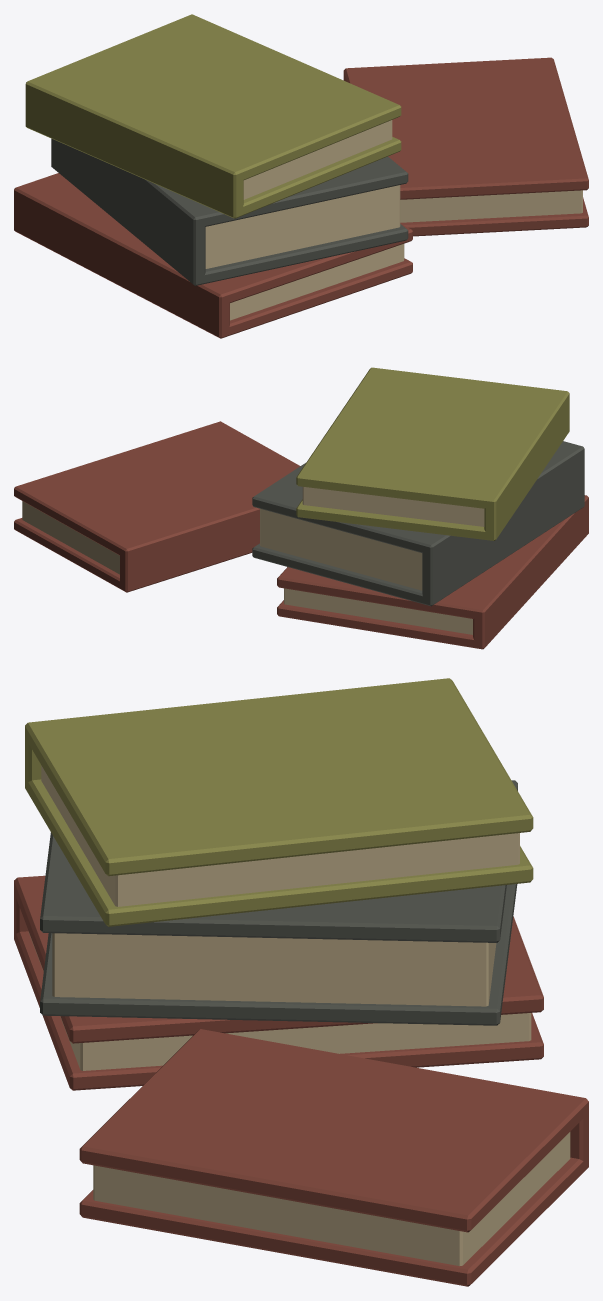
File: Library_BookStack_B.fbx
The picture shows the model from 3 angles, top to bottom: view 1: azimuth 30°, elevation 25°; view 2: azimuth 150°, elevation 25°; view 3: azimuth 270°, elevation 25°; orthographic projection. The views are drawn at different scales.
Visible parts, largest first — view 1: Upper_cover.014, Upper_cover.015, Spine.014, Spine.012, Spine.013, Pages.013, Upper_cover.012, Pages.015, Upper_cover.013, Lower_cover.013, Pages.012, Pages.014 (+3 smaller); view 2: Upper_cover.014, Upper_cover.015, Spine.013, Spine.015, Pages.013, Spine.012, Spine.014, Upper_cover.012, Upper_cover.013, Pages.014, Pages.012, Lower_cover.012 (+4 smaller); view 3: Upper_cover.014, Upper_cover.015, Pages.013, Upper_cover.013, Pages.015, Pages.014, Lower_cover.014, Lower_cover.013, Lower_cover.015, Pages.012, Upper_cover.012, Lower_cover.012 (+2 smaller).
Boxes of the visible parts, x1=… form: Upper_cover.014: x1=35, y1=14, x2=401, y2=181; Upper_cover.015: x1=347, y1=57, x2=588, y2=199; Spine.014: x1=25, y1=78, x2=243, y2=218; Spine.012: x1=14, y1=185, x2=229, y2=338; Spine.013: x1=51, y1=138, x2=205, y2=285; Pages.013: x1=205, y1=185, x2=400, y2=268; Upper_cover.012: x1=24, y1=173, x2=412, y2=304; Pages.015: x1=400, y1=190, x2=582, y2=222; Upper_cover.013: x1=157, y1=156, x2=408, y2=226; Lower_cover.013: x1=196, y1=224, x2=408, y2=285; Pages.012: x1=230, y1=244, x2=404, y2=320; Pages.014: x1=243, y1=120, x2=392, y2=199; Upper_cover.014: x1=296, y1=367, x2=559, y2=508; Upper_cover.015: x1=14, y1=421, x2=300, y2=557; Spine.013: x1=422, y1=446, x2=584, y2=606; Spine.015: x1=120, y1=504, x2=259, y2=592; Pages.013: x1=260, y1=508, x2=422, y2=590; Spine.012: x1=473, y1=495, x2=588, y2=649; Spine.014: x1=484, y1=390, x2=569, y2=540; Upper_cover.012: x1=277, y1=534, x2=545, y2=618; Upper_cover.013: x1=252, y1=441, x2=581, y2=554; Pages.014: x1=302, y1=487, x2=484, y2=526; Pages.012: x1=284, y1=588, x2=472, y2=634; Lower_cover.012: x1=277, y1=600, x2=481, y2=649; Upper_cover.014: x1=25, y1=681, x2=533, y2=876; Upper_cover.015: x1=79, y1=1031, x2=588, y2=1232; Pages.013: x1=52, y1=933, x2=496, y2=1006; Upper_cover.013: x1=40, y1=780, x2=517, y2=942; Pages.015: x1=93, y1=1132, x2=570, y2=1265; Pages.014: x1=41, y1=765, x2=519, y2=906; Lower_cover.014: x1=25, y1=777, x2=533, y2=926; Lower_cover.013: x1=40, y1=884, x2=517, y2=1025; Lower_cover.015: x1=79, y1=1156, x2=588, y2=1286; Pages.012: x1=28, y1=932, x2=531, y2=1070; Upper_cover.012: x1=16, y1=876, x2=543, y2=1043; Lower_cover.012: x1=14, y1=929, x2=543, y2=1090.
Size of the model in its own units: 1.14 by 0.325 by 0.7303.
